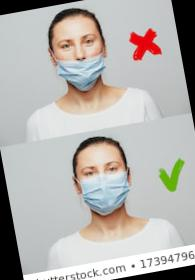mask_weared_incorrect: (53, 28, 107, 91)
with_mask: (76, 153, 134, 221)
